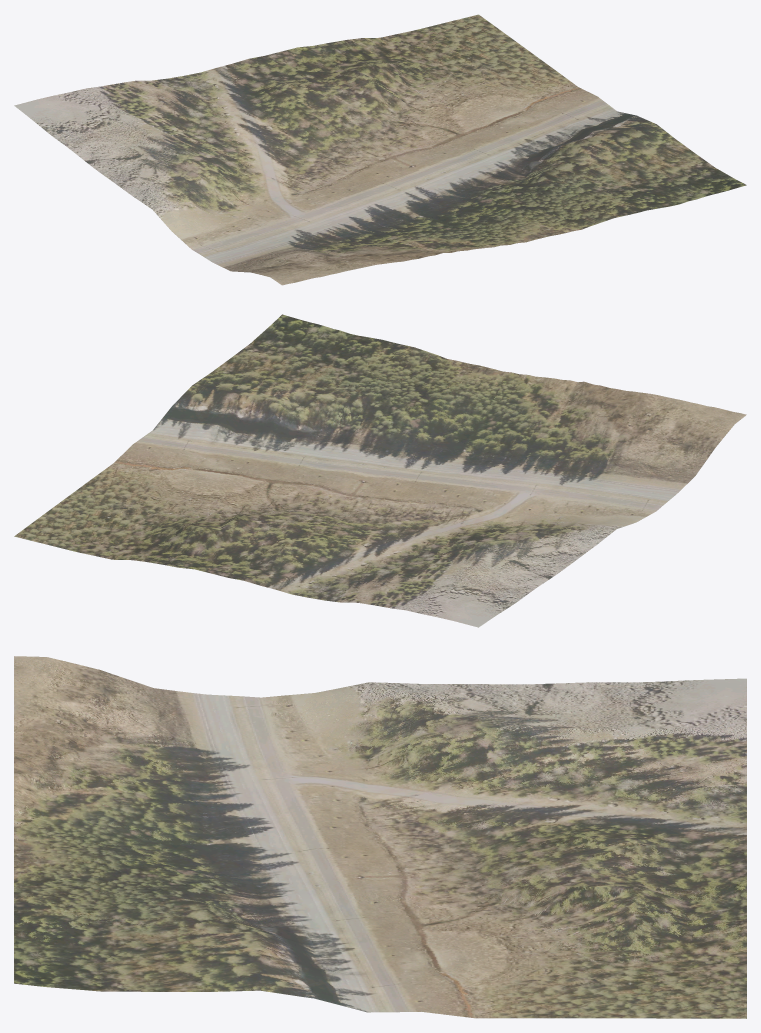
Rendered from CM_Terrain_24493735_6814674.fbx.
3 renders of one model, top to bottom at view 1: azimuth 30°, elevation 25°; view 2: azimuth 150°, elevation 25°; view 3: azimuth 270°, elevation 25°, orthographic. The views are drawn at different scales.
Parts seen in each view (by area): view 1: CM_Terrain_24493735_6814674_LOD0; view 2: CM_Terrain_24493735_6814674_LOD0; view 3: CM_Terrain_24493735_6814674_LOD0.
Boxes of the visible parts, x1=… form: CM_Terrain_24493735_6814674_LOD0: x1=14, y1=14, x2=746, y2=285; CM_Terrain_24493735_6814674_LOD0: x1=14, y1=314, x2=746, y2=627; CM_Terrain_24493735_6814674_LOD0: x1=14, y1=656, x2=746, y2=1018.
Size of what is drawn, in the model's own units: 205 by 16.46 by 205.
